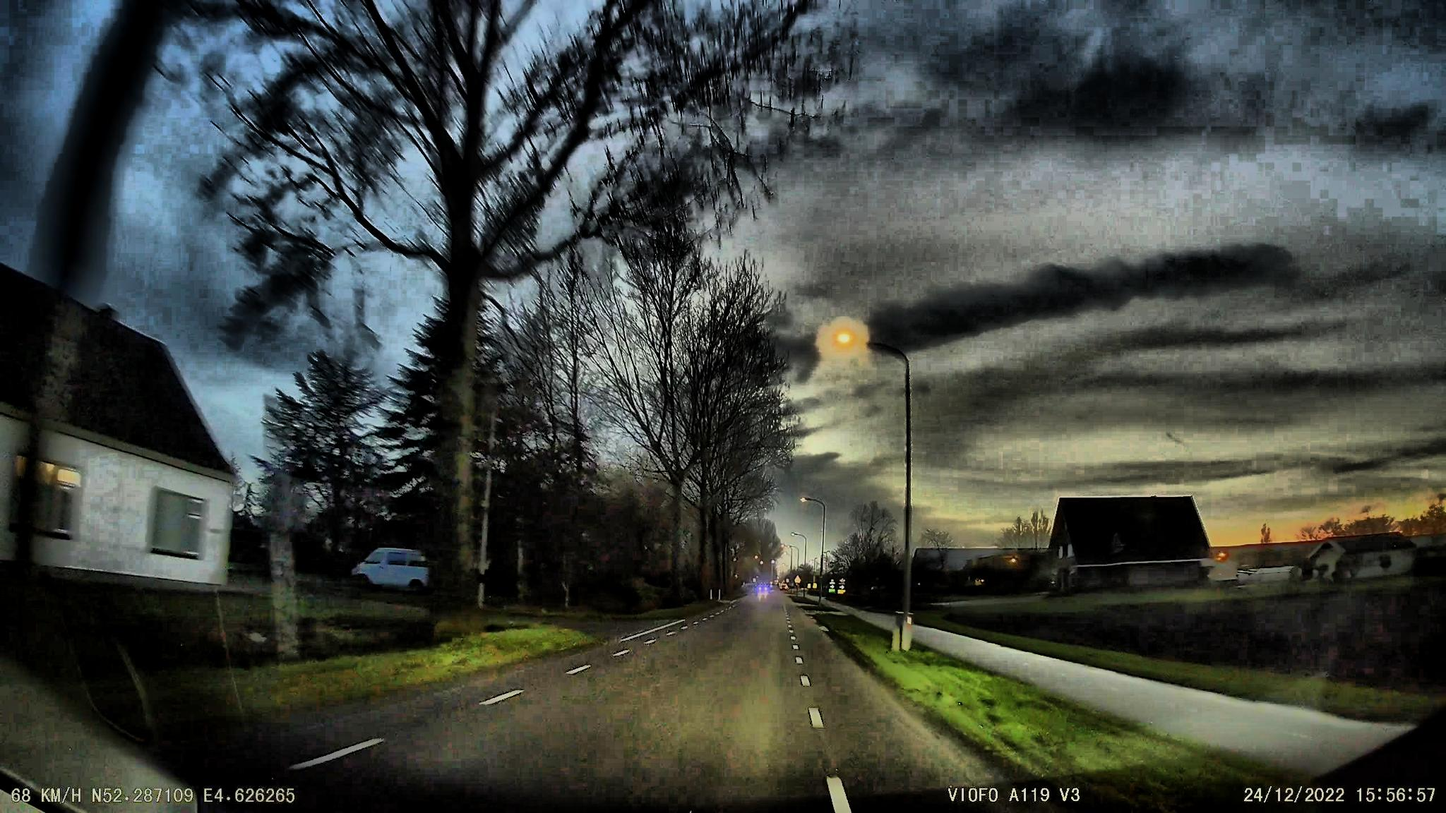Roads: (154, 596, 992, 813)
